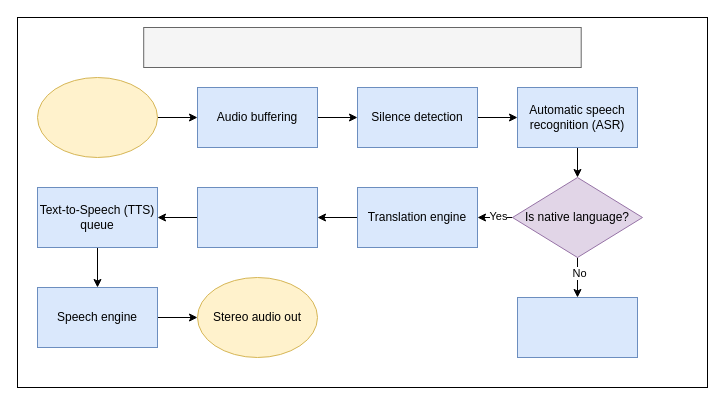
Image size: 725x405. Some labels were removed from this diagram. Here are the shapes that lost their labels. From the top down, the centre of each, then its label:
At point (362, 47): "Live Translation Software Pipeline".
At point (97, 117): "Mono mic input".
At point (257, 217): "Text post-processing".
At point (577, 327): "No action".
